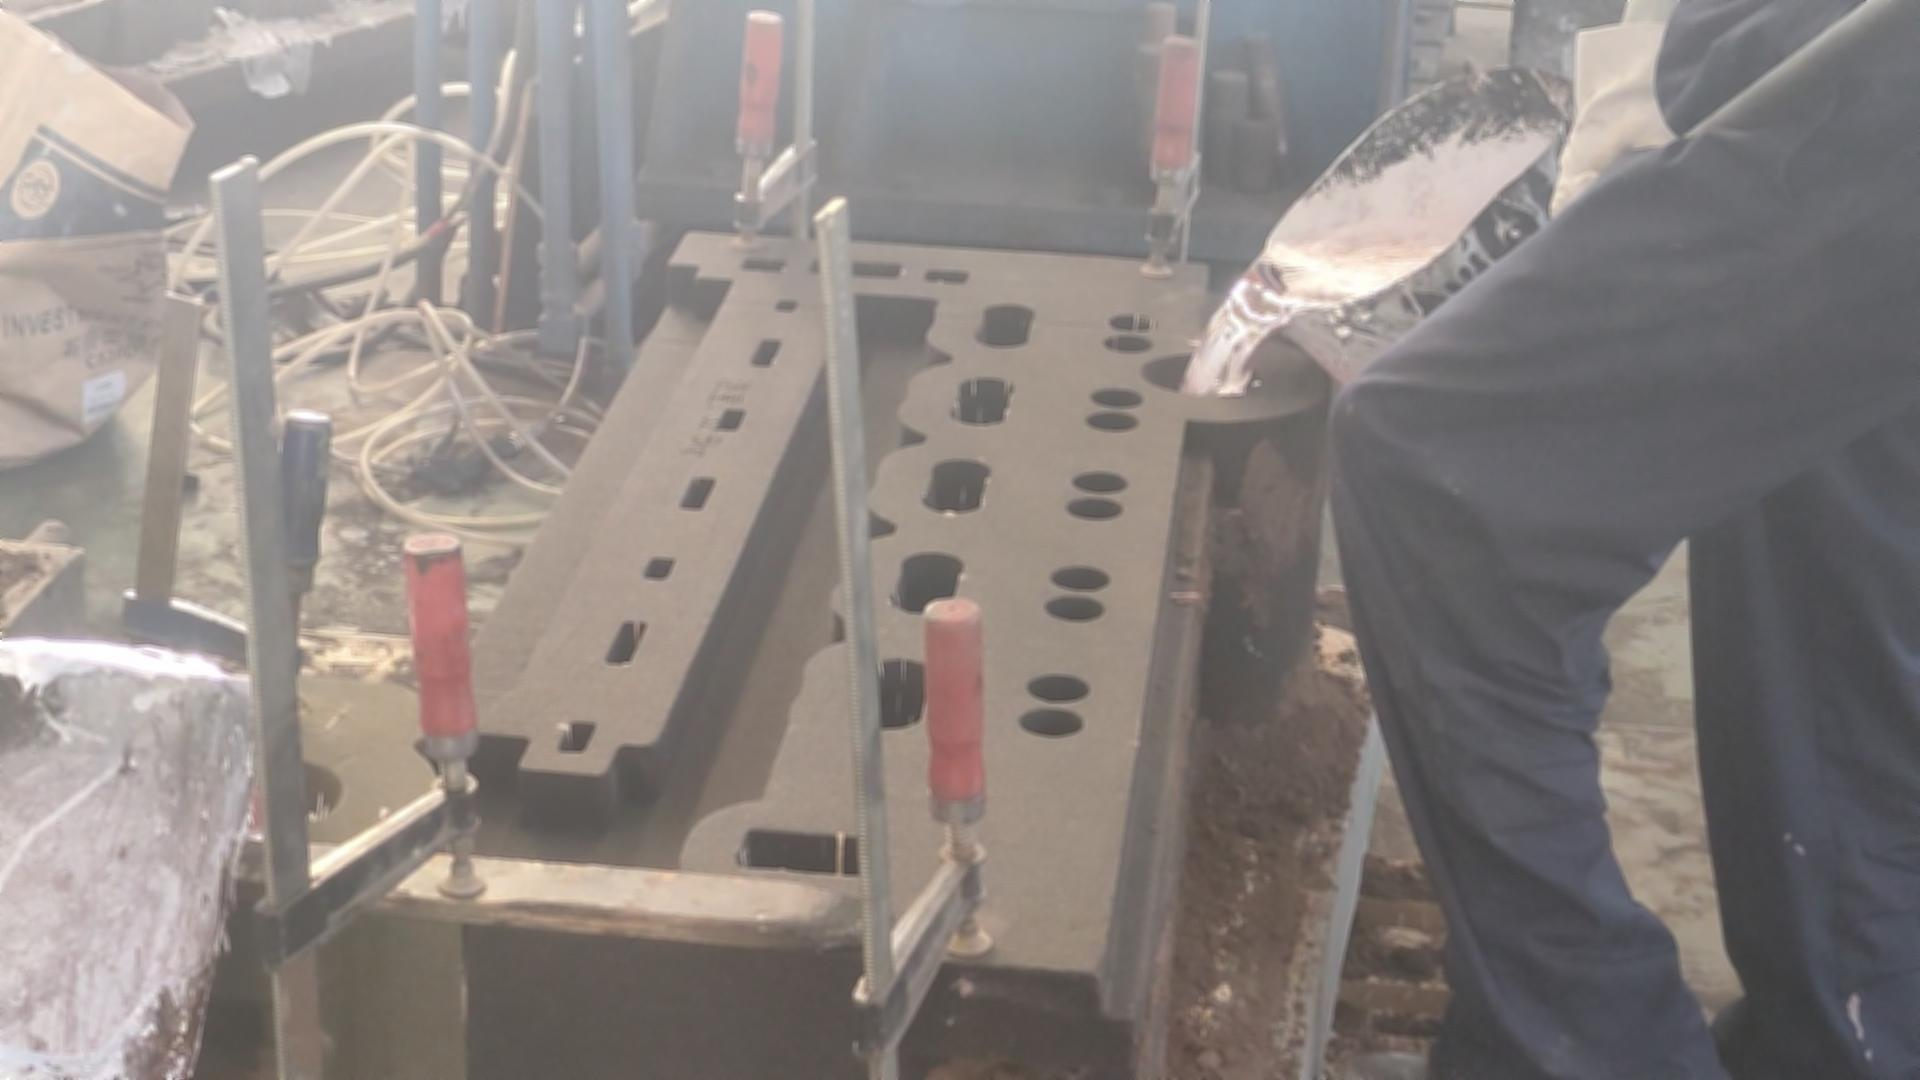pouring hole: (211, 756, 344, 831), (1139, 349, 1263, 396)
